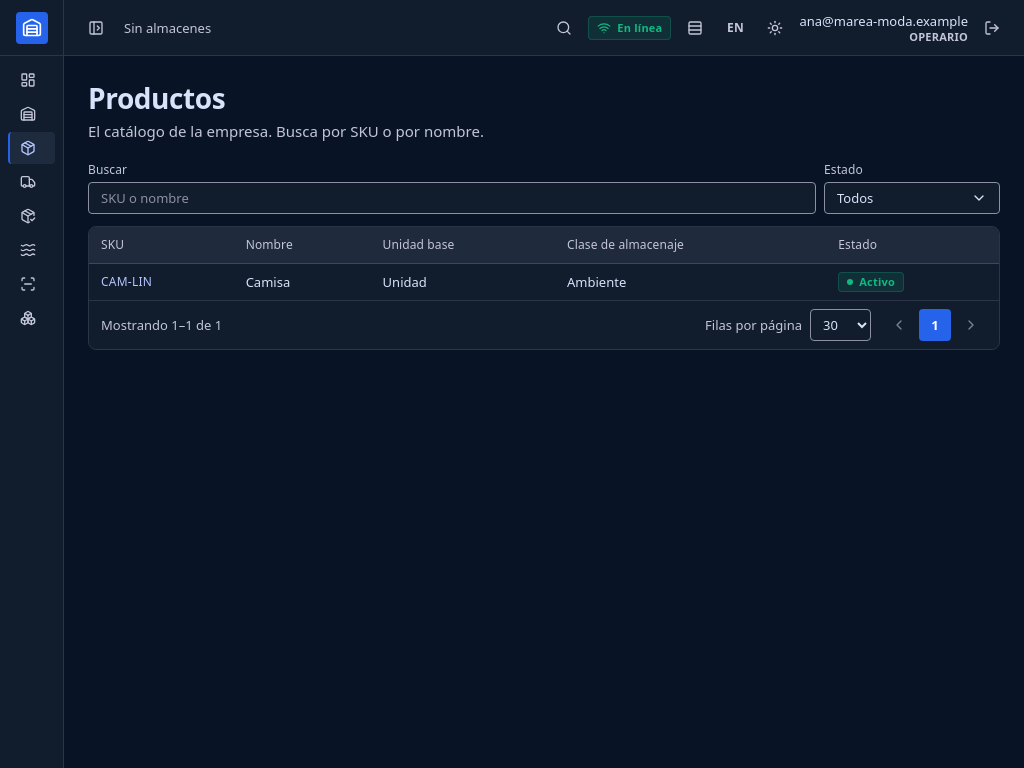
it: the catalogue › filters by status, and says so when nothing matches
Expected: the text "Camisa" is shown, top-left (234, 264), bottom-right (371, 300)
Click the dropdown named "Estado".
click(912, 198)  # box top-left (824, 182), bottom-right (1000, 214)
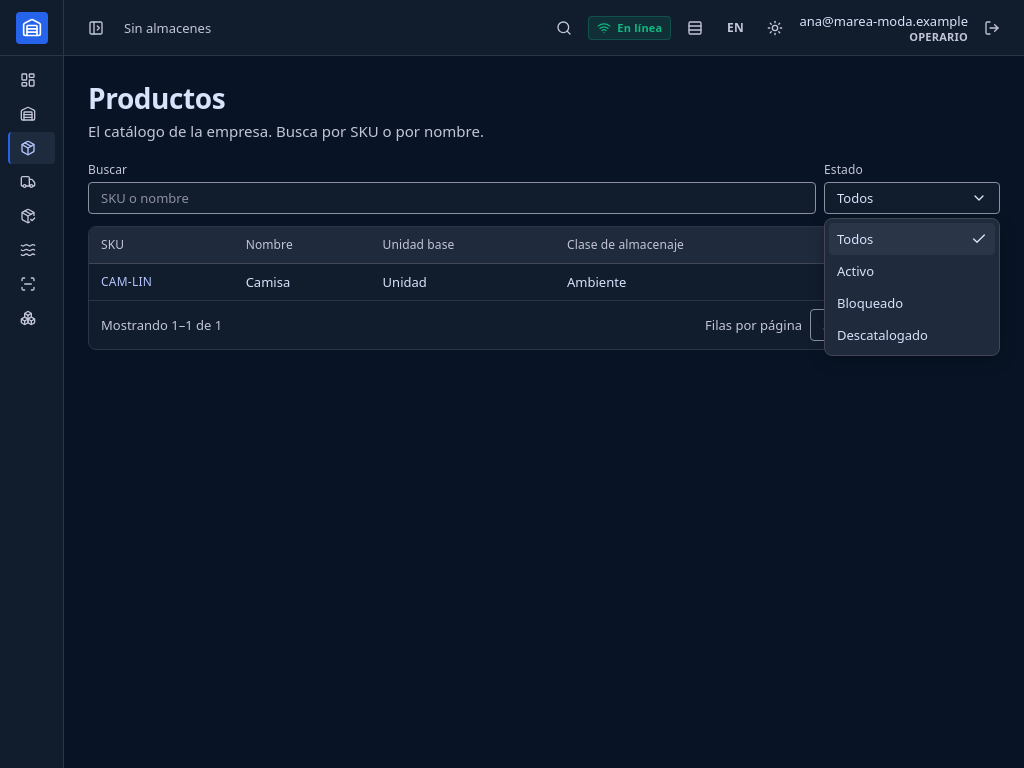
Click the option "Bloqueado".
click(870, 303)  # box top-left (837, 294), bottom-right (903, 312)
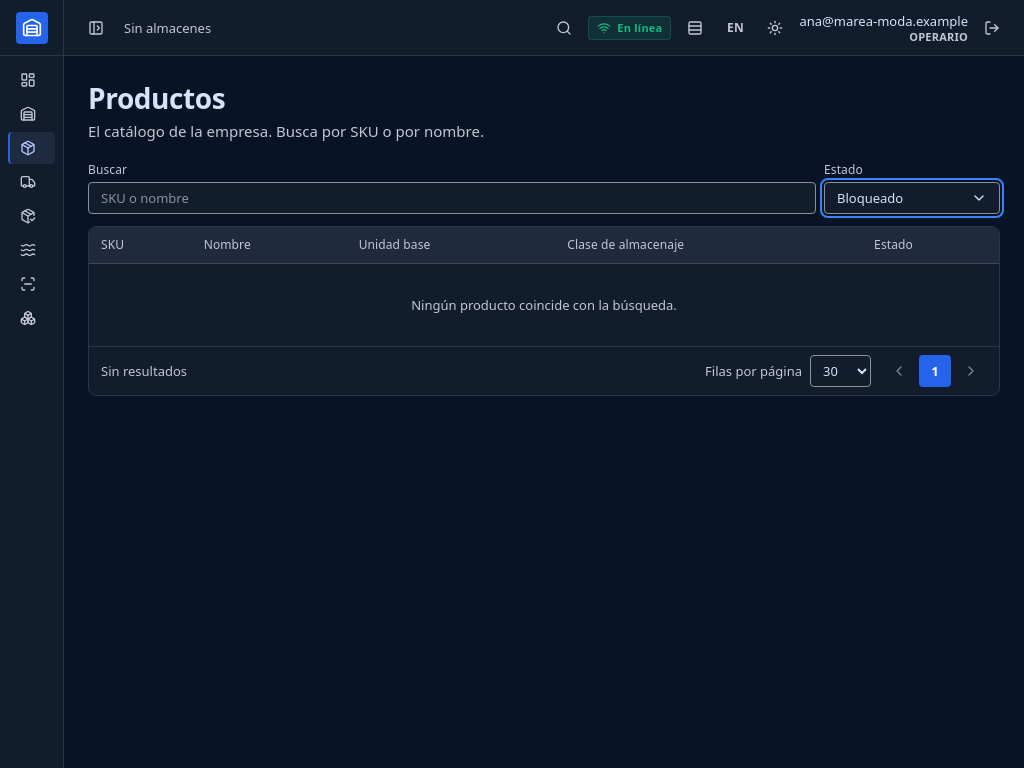
Expected: the text "Ningún producto coincide con la búsqueda." is shown, top-left (89, 264), bottom-right (999, 346)
